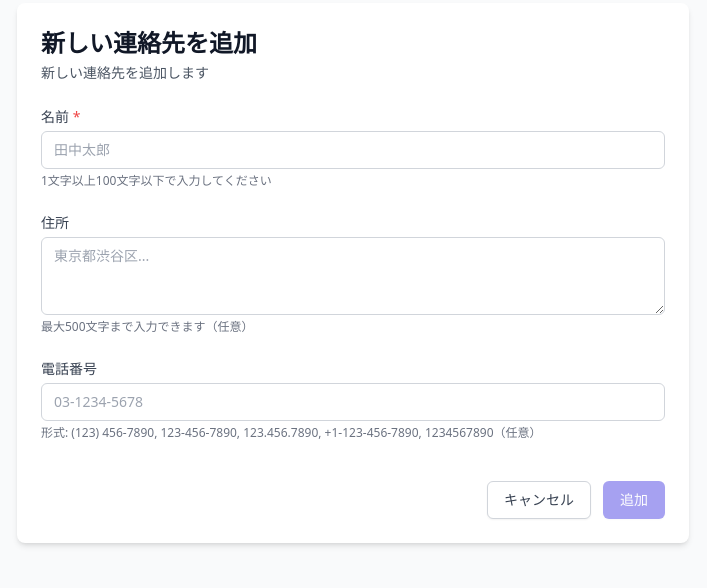
Scenario: ContactForm.vue › Create Mode › validates phone number format
The image size is (707, 588).
// Test invalid phone number
Type "invalid-phone" into the field with test id "contact-phone" at (353, 402), box [41, 383, 665, 421]
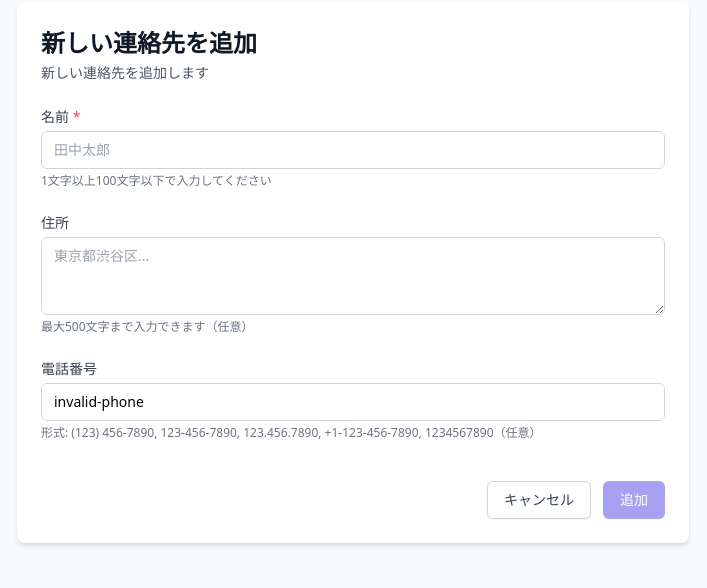
Leave the field with test id "contact-phone", box [41, 383, 665, 421]
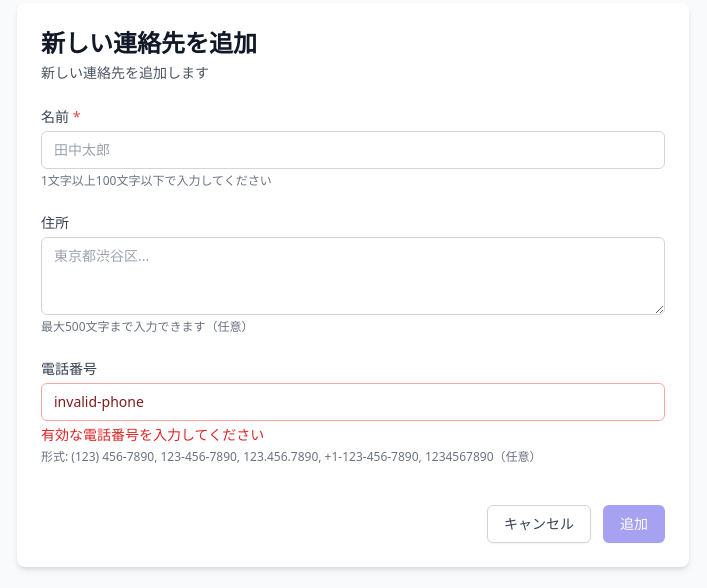
Check: the text with test id "phone-error" shows "有効な電話番号", box [41, 425, 264, 444]
